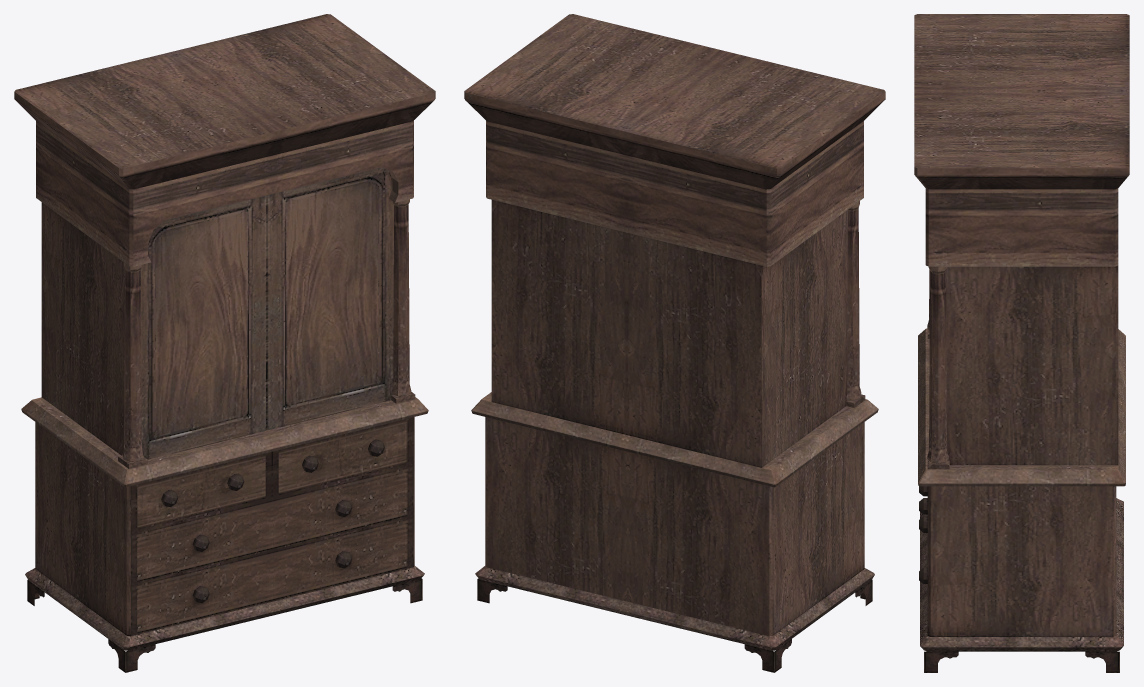
Rendered from GuiZi.fbx.
3 renders of one model, left to right at view 1: azimuth 30°, elevation 25°; view 2: azimuth 150°, elevation 25°; view 3: azimuth 270°, elevation 25°, orthographic.
Visible parts, largest first — view 1: 3D_GuiZi.mo; view 2: 3D_GuiZi.mo; view 3: 3D_GuiZi.mo.
Part boxes in pixels (bbox=[...]): 3D_GuiZi.mo: bbox=[14, 14, 435, 672]; 3D_GuiZi.mo: bbox=[464, 14, 885, 672]; 3D_GuiZi.mo: bbox=[914, 14, 1129, 672].
Bounding box in the file's own units: 36.79 × 56.59 × 21.67.
1 material, 1 textured.
